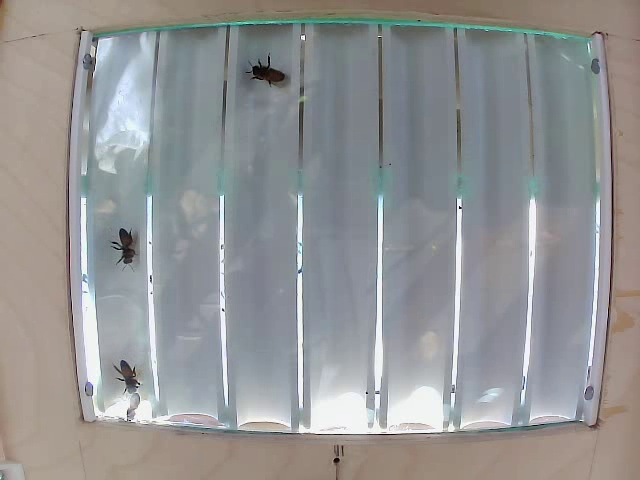bee: (247, 51, 286, 88), (109, 226, 138, 275), (111, 358, 146, 393)
